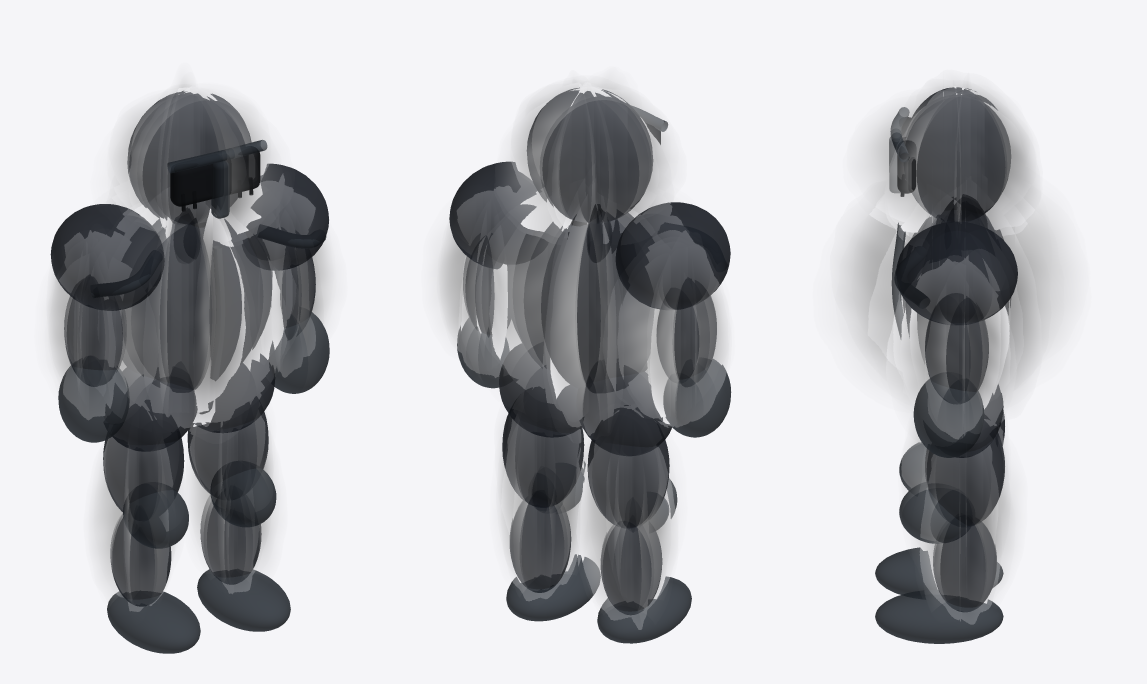
Rendered from transparent_knight.glb.
3 views of the same model, side by side, from view 1: azimuth 30°, elevation 25°; view 2: azimuth 150°, elevation 25°; view 3: azimuth 270°, elevation 25° (orthographic). The views are drawn at different scales.
Parts seen in each view (by area): view 1: Knight.Breastplate, Knight.Pauldron, Knight.Helmet, Knight.Cuisse, Knight.Pauldron.001, Knight.TorsoHaze.02, Knight.Cuisse.001, Knight.Hip, Knight.UpperArm, Knight.Gauntlet, Knight.Boot, Knight.Boot.001 (+37 smaller); view 2: Knight.Breastplate, Knight.Helmet, Knight.Pauldron, Knight.Cuisse, Knight.Cuisse.001, Knight.Pauldron.001, Knight.Hip, Knight.TorsoHaze.01, Knight.Hip.001, Knight.Greave.001, Knight.Greave, Knight.UpperArm (+33 smaller); view 3: Knight.Helmet, Knight.Pauldron.001, Knight.TorsoHaze.02, Knight.TorsoHaze.06, Knight.Cuisse.001, Knight.UpperArm.001, Knight.Boot.001, Knight.Greave.001, Knight.Gauntlet.001, Knight.Knee.001, Knight.TorsoHaze.10, Knight.Breastplate (+26 smaller).
Part boxes in pixels (x1=…): Knight.Breastplate: x1=122, y1=217, x2=272, y2=392; Knight.Pauldron: x1=50, y1=204, x2=164, y2=310; Knight.Helmet: x1=127, y1=91, x2=251, y2=224; Knight.Cuisse: x1=103, y1=400, x2=184, y2=519; Knight.Pauldron.001: x1=242, y1=163, x2=328, y2=270; Knight.TorsoHaze.02: x1=193, y1=220, x2=243, y2=413; Knight.Cuisse.001: x1=187, y1=396, x2=268, y2=499; Knight.Hip: x1=104, y1=367, x2=197, y2=451; Knight.UpperArm: x1=64, y1=275, x2=126, y2=386; Knight.Gauntlet: x1=58, y1=356, x2=129, y2=442; Knight.Boot: x1=107, y1=591, x2=200, y2=653; Knight.Boot.001: x1=197, y1=569, x2=290, y2=631; Knight.Breastplate: x1=507, y1=212, x2=654, y2=392; Knight.Helmet: x1=526, y1=87, x2=652, y2=222; Knight.Pauldron: x1=615, y1=202, x2=730, y2=309; Knight.Cuisse: x1=587, y1=405, x2=669, y2=528; Knight.Cuisse.001: x1=502, y1=387, x2=584, y2=507; Knight.Pauldron.001: x1=449, y1=161, x2=537, y2=269; Knight.Hip: x1=576, y1=359, x2=671, y2=455; Knight.TorsoHaze.01: x1=484, y1=222, x2=551, y2=381; Knight.Hip.001: x1=499, y1=343, x2=583, y2=437; Knight.Greave.001: x1=510, y1=497, x2=571, y2=592; Knight.Greave: x1=600, y1=522, x2=662, y2=614; Knight.UpperArm: x1=656, y1=278, x2=716, y2=386; Knight.Helmet: x1=905, y1=87, x2=1010, y2=221; Knight.Pauldron.001: x1=896, y1=221, x2=1017, y2=324; Knight.TorsoHaze.02: x1=843, y1=217, x2=1038, y2=370; Knight.TorsoHaze.06: x1=867, y1=222, x2=1067, y2=354; Knight.Cuisse.001: x1=925, y1=415, x2=1004, y2=525; Knight.UpperArm.001: x1=925, y1=295, x2=988, y2=403; Knight.Boot.001: x1=875, y1=589, x2=1003, y2=643; Knight.Greave.001: x1=933, y1=522, x2=996, y2=611; Knight.Gauntlet.001: x1=913, y1=373, x2=984, y2=457; Knight.Knee.001: x1=899, y1=482, x2=972, y2=543; Knight.TorsoHaze.10: x1=878, y1=209, x2=1063, y2=303; Knight.Breastplate: x1=902, y1=210, x2=1010, y2=362.
Bounding box in the file's own units: 1.07 × 1.8 × 0.982.
Materials: 4 (1 with a texture image).
